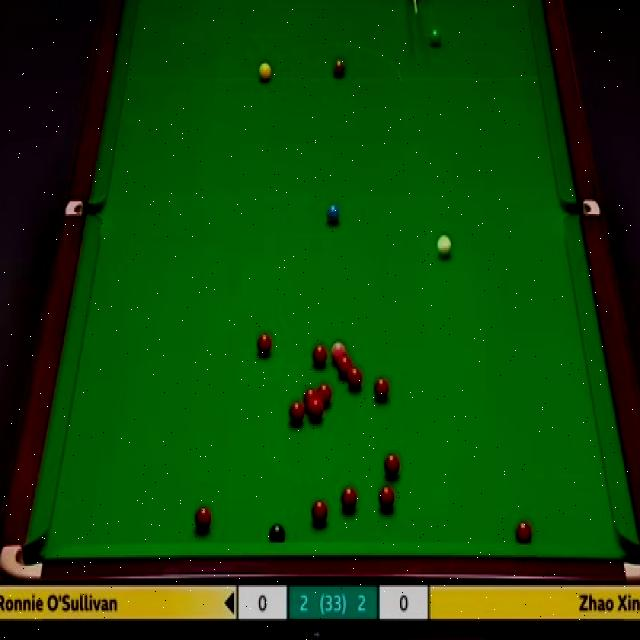black-ball: (269, 521, 286, 546)
blue-ball: (326, 204, 341, 225)
brown-ball: (332, 58, 344, 79)
green-ball: (428, 26, 443, 48)
pink-ball: (330, 339, 346, 363)
red-ball: (377, 483, 396, 512), (382, 452, 401, 479), (310, 500, 329, 526), (514, 519, 532, 546), (255, 330, 272, 358), (341, 484, 358, 511), (194, 504, 211, 530), (288, 400, 305, 425), (347, 368, 363, 394), (312, 342, 328, 368), (374, 376, 389, 402), (308, 396, 324, 420), (318, 382, 333, 406), (336, 356, 353, 376), (303, 387, 318, 406)
white-ball: (435, 232, 452, 258)
yellow-ball: (258, 59, 271, 82)
